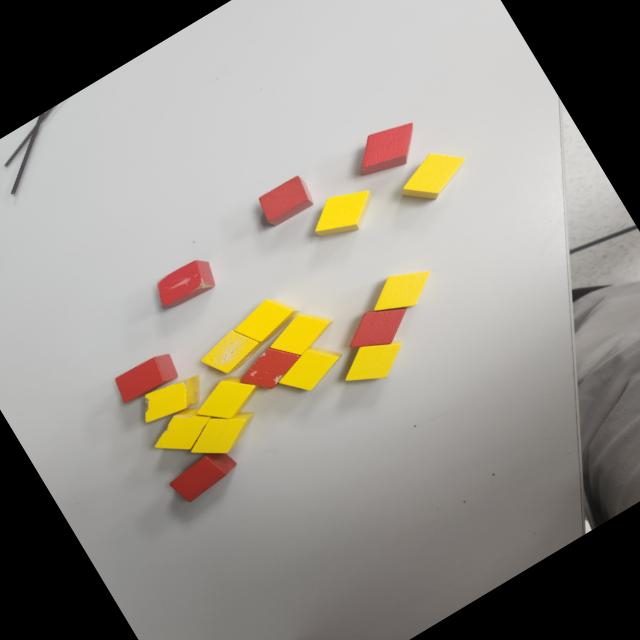broken: (144, 396, 223, 466), (132, 364, 211, 432), (150, 252, 223, 315), (235, 337, 308, 400), (196, 318, 267, 381), (110, 346, 182, 407)
red: (346, 110, 431, 186), (339, 292, 418, 362), (166, 444, 242, 506), (109, 346, 181, 406), (255, 173, 318, 230)
yellow: (180, 395, 268, 470), (329, 325, 415, 399), (392, 138, 476, 212), (303, 177, 384, 250), (187, 365, 267, 435), (262, 299, 342, 368), (363, 256, 443, 325), (230, 286, 307, 353), (272, 336, 348, 401)
